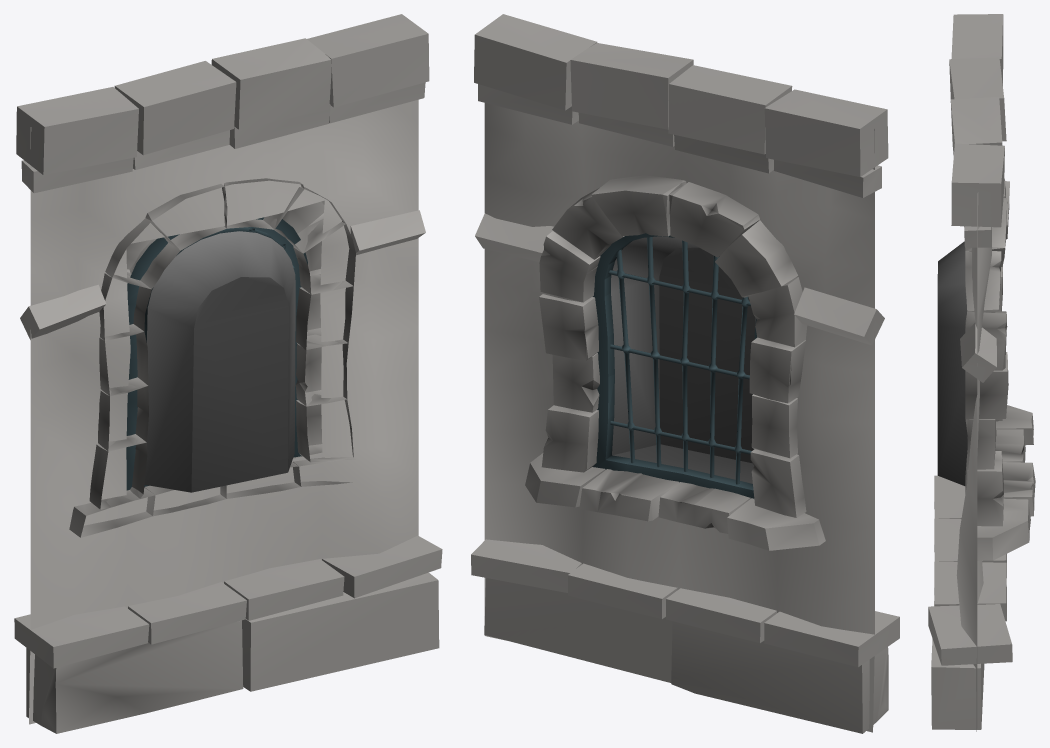
Rendered from wall_window_C_LOW.FBX.
3 renders of one model, left to right at view 1: azimuth 30°, elevation 25°; view 2: azimuth 150°, elevation 25°; view 3: azimuth 270°, elevation 25°, orthographic. The views are drawn at different scales.
Visible parts, largest first — view 1: wall_window_C_LOW; view 2: wall_window_C_LOW; view 3: wall_window_C_LOW.
Part boxes in pixels (left/top/right/bottom): wall_window_C_LOW: left=14, top=14, right=442, bottom=733; wall_window_C_LOW: left=471, top=14, right=899, bottom=733; wall_window_C_LOW: left=928, top=14, right=1035, bottom=731.
Size of the model in its own units: 4.06 by 6.02 by 1.06.
